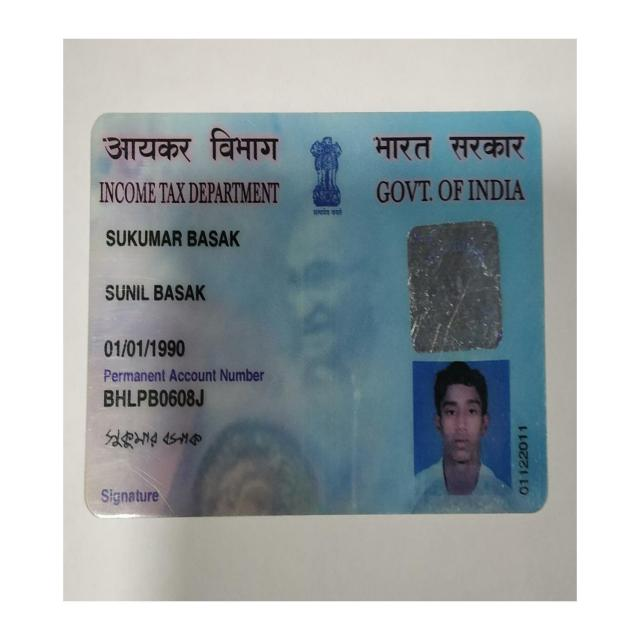pan_card: (90, 114, 541, 515)
